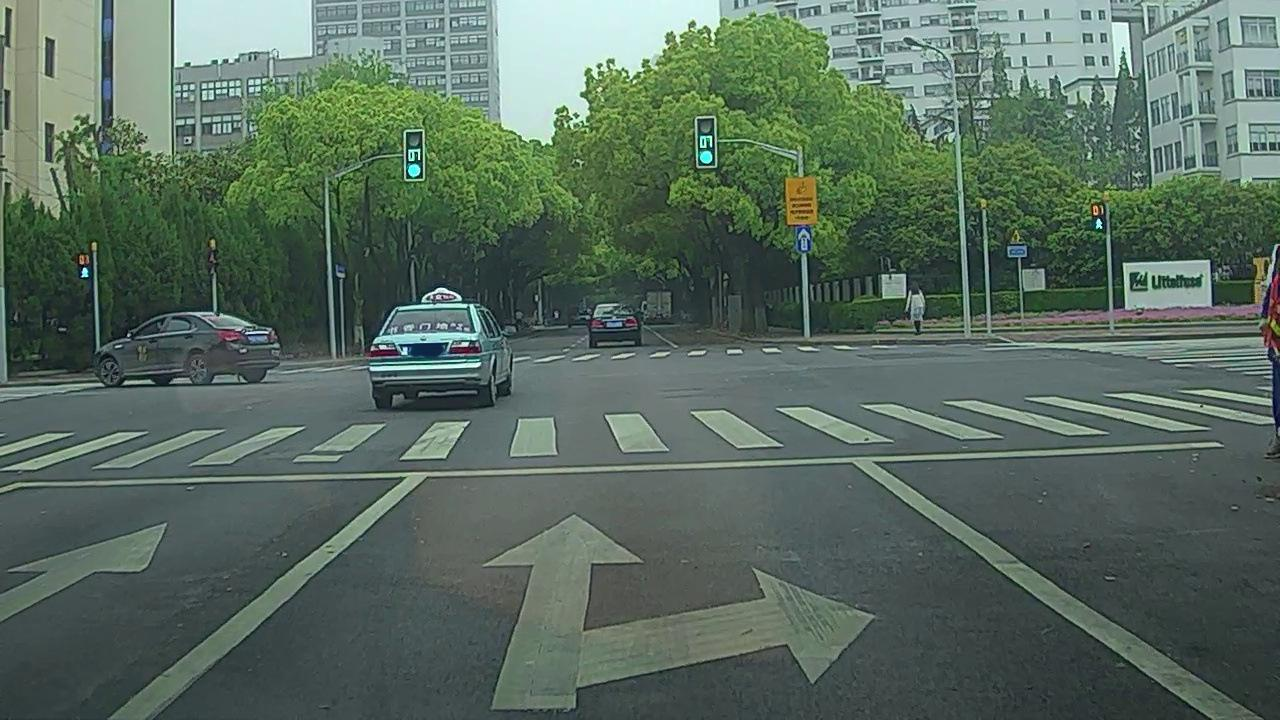traffic_light: (695, 117, 715, 165), (405, 130, 423, 179)
